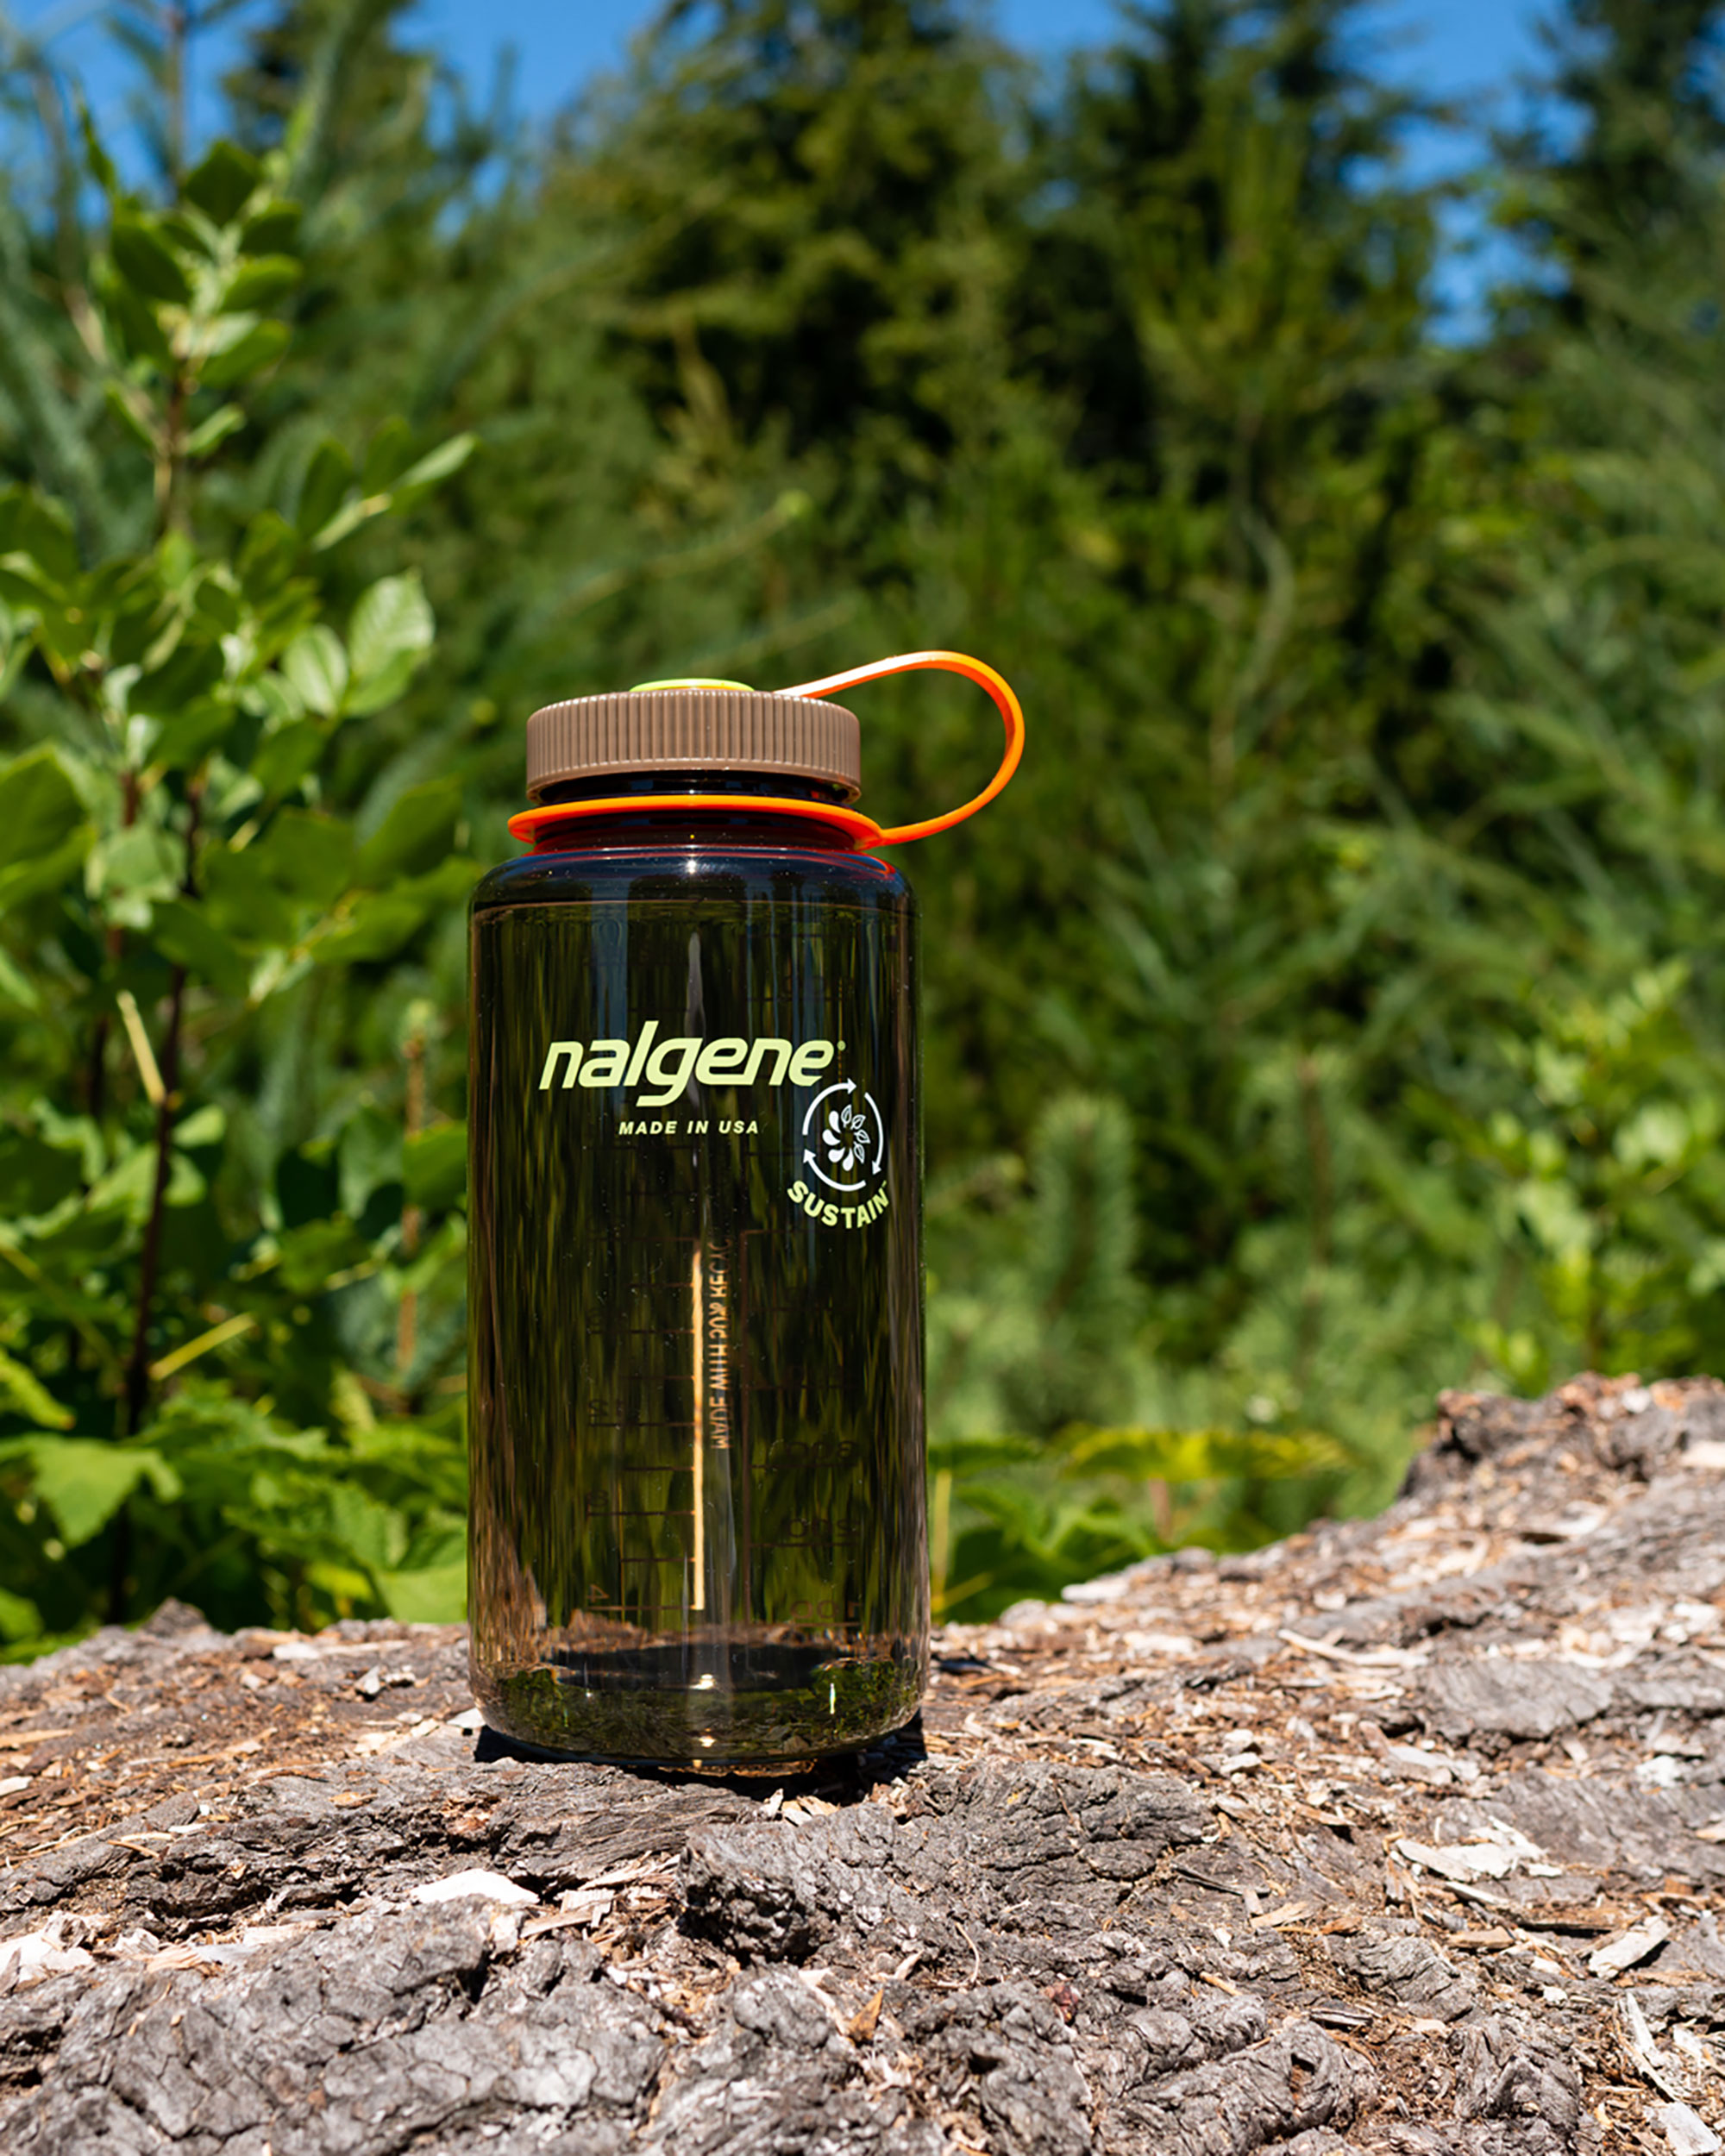waterbottle: (458, 646, 1028, 1788)
